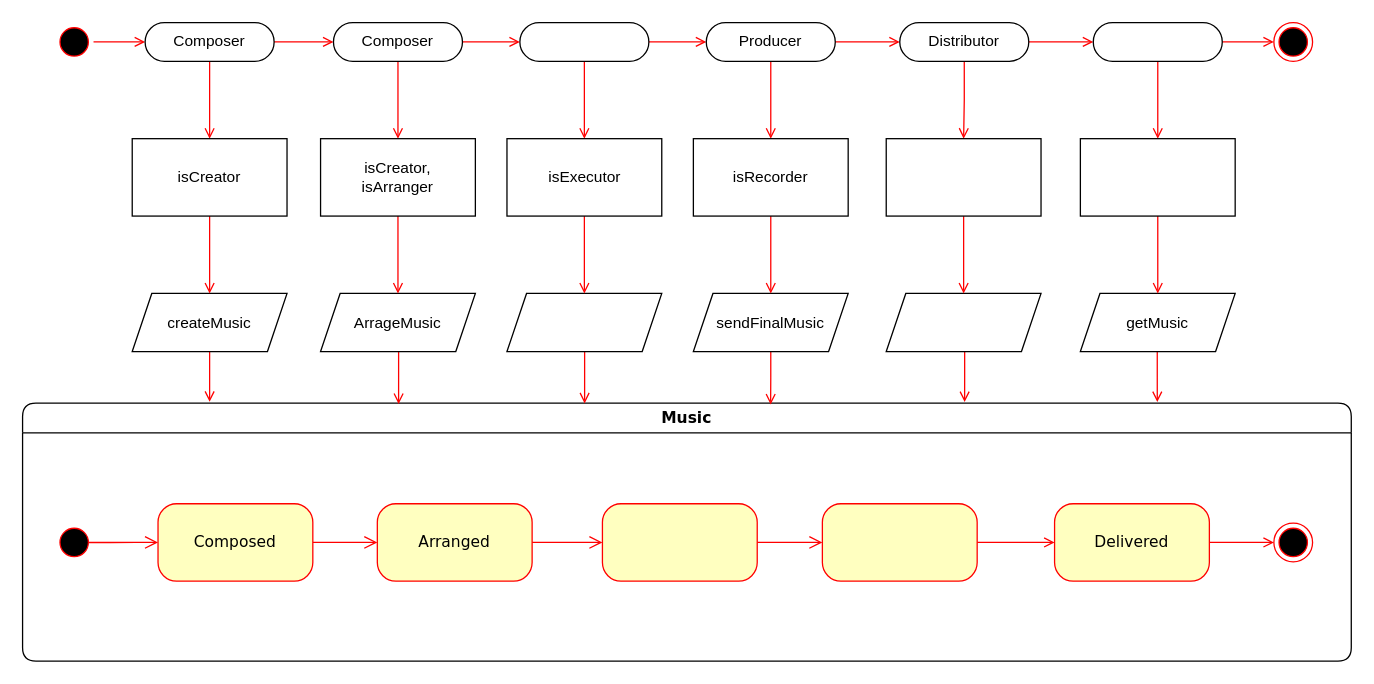
The diagram is 1374 pixels wide and 684 high, and some of its shapes have lost their labels. Here are the shapes that lost their labels. From the top down, the centre of each, then its label:
At (x=584, y=41): "Executor".
At (x=1157, y=41): "Consumer".
At (x=963, y=176): "isProvider".
At (x=1157, y=176): "isListener".
At (x=584, y=322): "sendMusic".
At (x=963, y=322): "ProvideMusic".
At (x=679, y=541): "Produced".
At (x=899, y=541): "Distributed".
